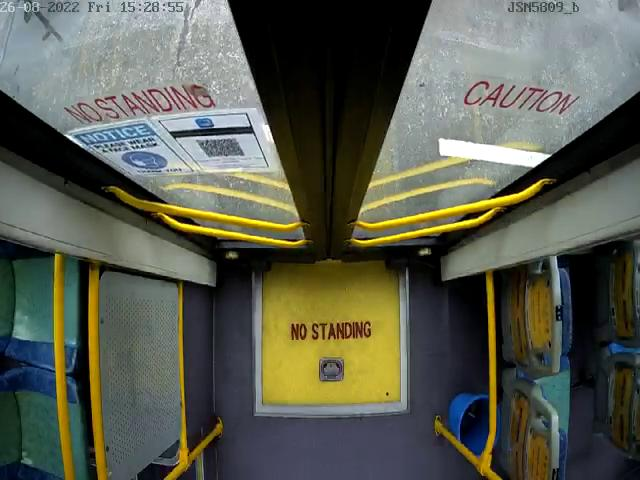close: (0, 0, 640, 108)
